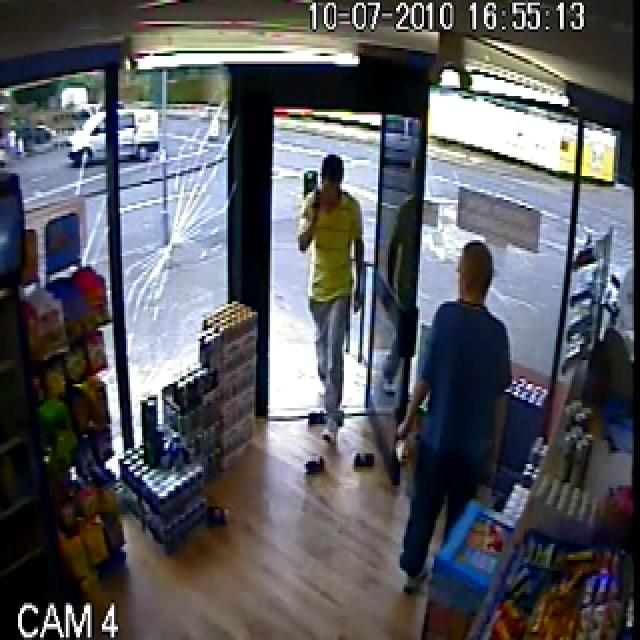vandalism: (270, 76, 640, 526)
